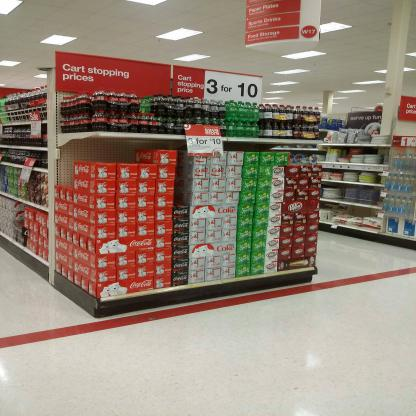Void: (81, 140, 135, 162), (224, 141, 290, 151), (58, 144, 72, 189), (179, 151, 189, 210), (141, 138, 182, 150), (352, 206, 370, 217)
